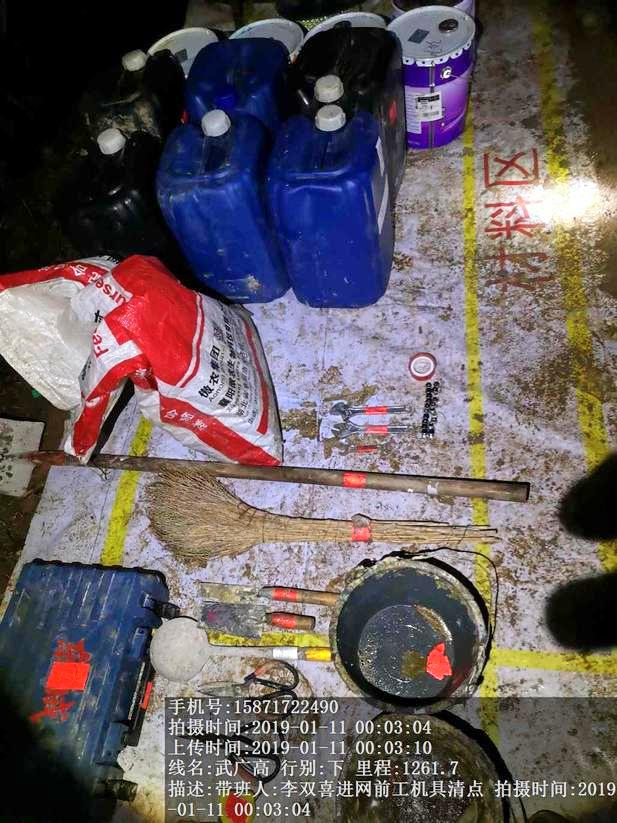SB: (129, 464, 503, 562)
SLT: (264, 114, 411, 309), (148, 115, 272, 296), (46, 109, 151, 249)
SNT: (316, 559, 497, 708)
